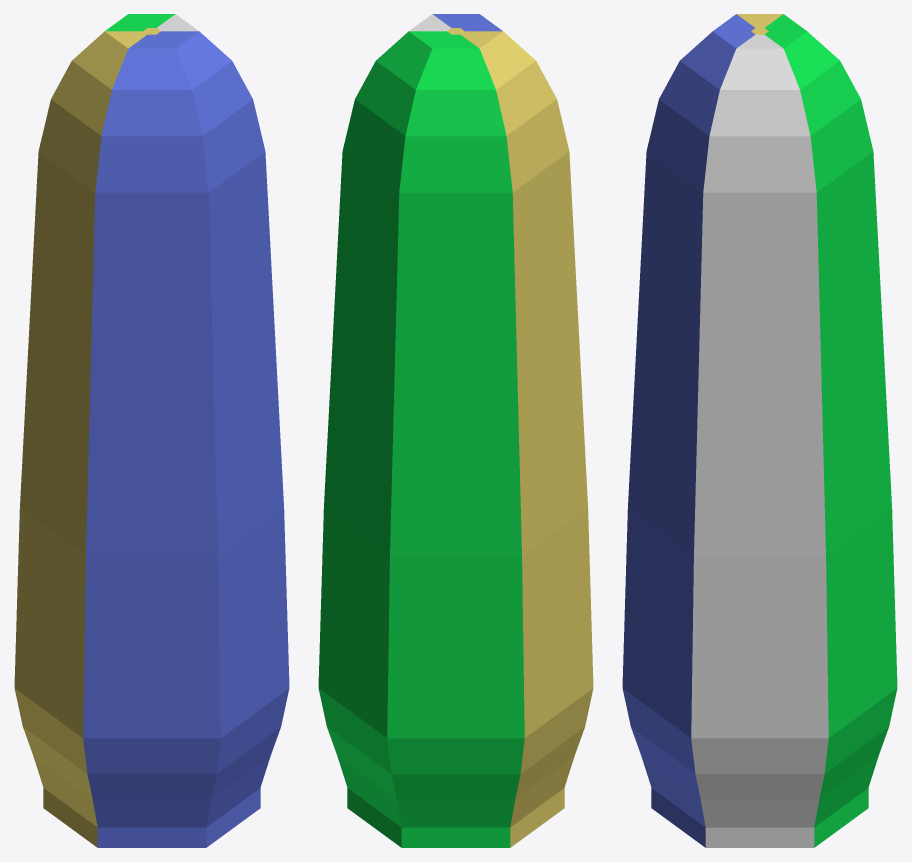
File: LorgsCorn (2).fbx
The picture shows the model from 3 angles, left to right: view 1: azimuth 30°, elevation 25°; view 2: azimuth 150°, elevation 25°; view 3: azimuth 270°, elevation 25°; orthographic projection.
Visible parts, largest first — view 1: Cylinder; view 2: Cylinder; view 3: Cylinder.
Boxes of the visible parts, x1,y1,x2,y2 form: Cylinder: (14, 14, 289, 847); Cylinder: (318, 14, 593, 847); Cylinder: (622, 14, 897, 847).
Size of the model in its own units: 10.93 by 9.47 by 34.08.
